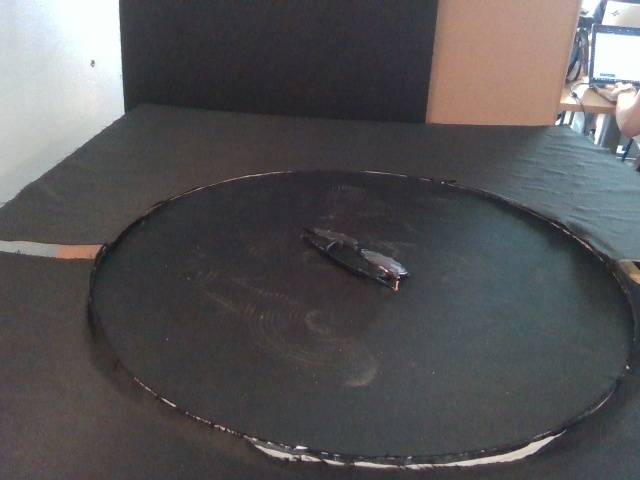glasses: (299, 226, 412, 292)
